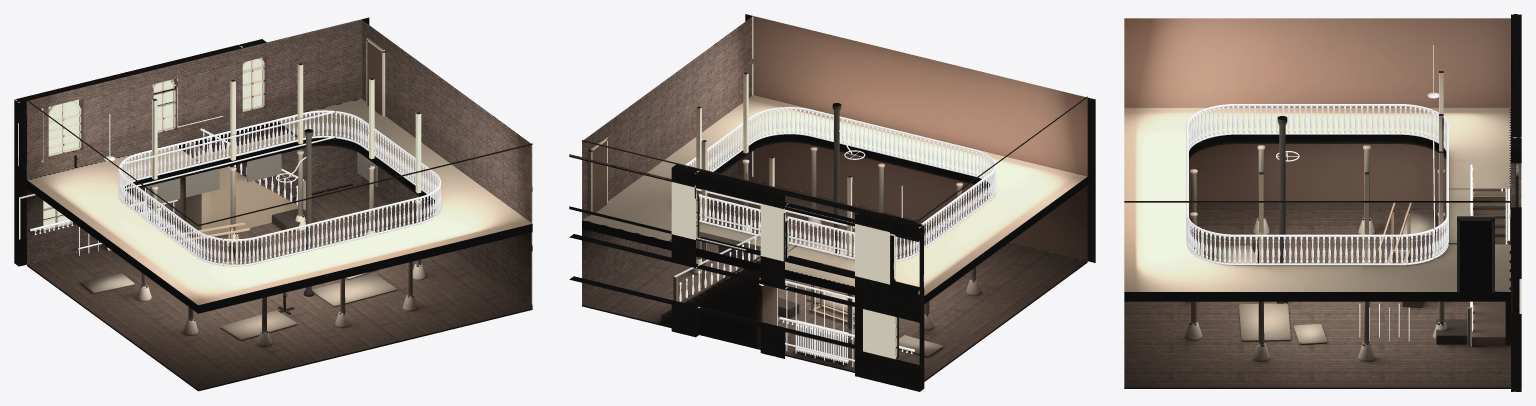
File: naismith-springfield-gym.glb
The picture shows the model from 3 angles, left to right: view 1: azimuth 30°, elevation 25°; view 2: azimuth 150°, elevation 25°; view 3: azimuth 270°, elevation 25°; orthographic projection. The views are drawn at different scales.
Parts seen in each view (by area): view 1: floor, wall_north, gallery_deck, wall_east, artifact_gallery_rail_north, stair_stringer_panel, artifact_gallery_rail_south, artifact_mats, gallery_rail_west, posts_upper, artifact_signboards, gallery_rail_east (+13 smaller); view 2: wall_south_unphotographed, gallery_deck, floor, wall_north, wall_east, stair_stringer_panel, artifact_gallery_rail_south, artifact_gallery_rail_north, gallery_rail_west, window_north_arched, posts_upper, gallery_rail_east (+13 smaller); view 3: wall_west_unphotographed, floor, gallery_deck, gallery_rail_east, gallery_rail_west, wall_north, artifact_mats, door_east_upper, stair_stringer_panel, columns_gallery, posts_upper, column_bases (+8 smaller).
Part boxes in pixels (x1,y1,x2,y2): floor: (27,183,532,391); wall_north: (14,17,369,266); gallery_deck: (27,98,532,313); wall_east: (361,19,532,307); artifact_gallery_rail_north: (120,110,335,189); stair_stringer_panel: (185,143,297,239); artifact_gallery_rail_south: (224,186,439,266); artifact_mats: (81,270,397,340); gallery_rail_west: (118,164,224,265); posts_upper: (152,63,421,193); artifact_signboards: (146,152,377,206); gallery_rail_east: (335,111,441,211); wall_south_unphotographed: (745,14,1095,262); gallery_deck: (582,95,1087,304); floor: (582,179,1087,381); wall_north: (569,154,924,391); wall_east: (582,16,753,304); stair_stringer_panel: (661,261,778,346); artifact_gallery_rail_south: (778,107,993,184); artifact_gallery_rail_north: (696,188,854,259); gallery_rail_west: (895,160,996,261); window_north_arched: (855,224,889,284); posts_upper: (696,72,852,256); gallery_rail_east: (685,107,777,171); wall_west_unphotographed: (1124,18,1510,203); floor: (1124,203,1510,388); gallery_deck: (1124,107,1510,301); gallery_rail_east: (1201,228,1434,265); gallery_rail_west: (1200,104,1432,140); wall_north: (1511,14,1521,391); artifact_mats: (1213,212,1436,344); door_east_upper: (1457,216,1494,292); stair_stringer_panel: (1472,191,1505,345); columns_gallery: (1190,145,1445,344); posts_upper: (1259,71,1443,263); column_bases: (1185,217,1447,361).
Bounding box in the file's own units: 13 × 5.9 × 11.31.
5 materials, 4 textured.
